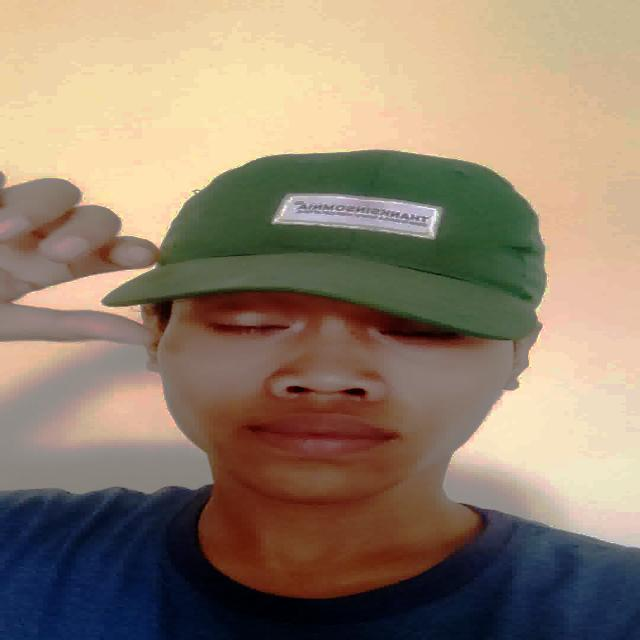TOPI: (117, 135, 568, 341)
